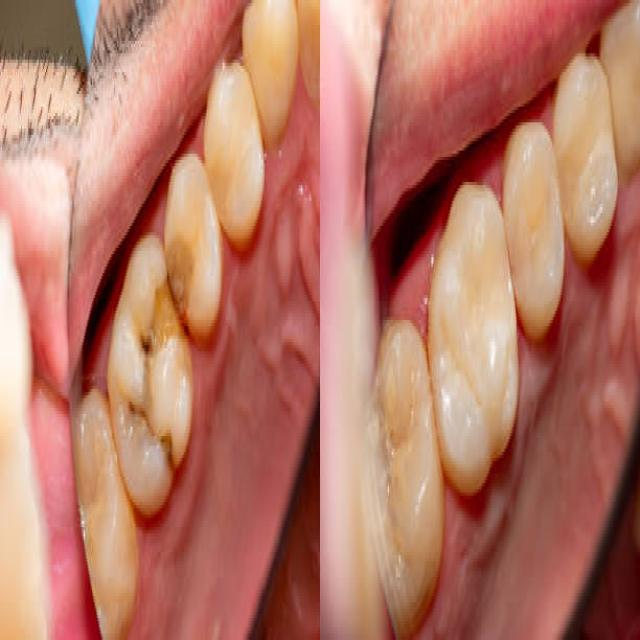caries: (136, 228, 195, 370), (124, 382, 154, 456), (156, 412, 180, 488)
